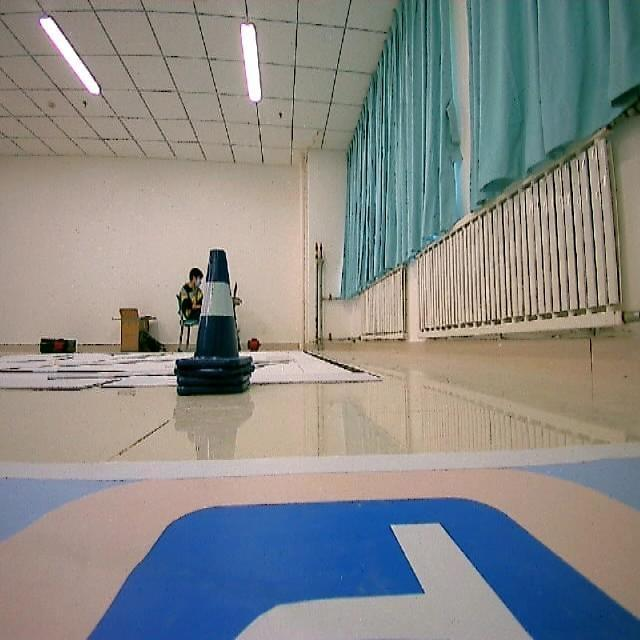obstacle: (176, 238, 252, 402)
